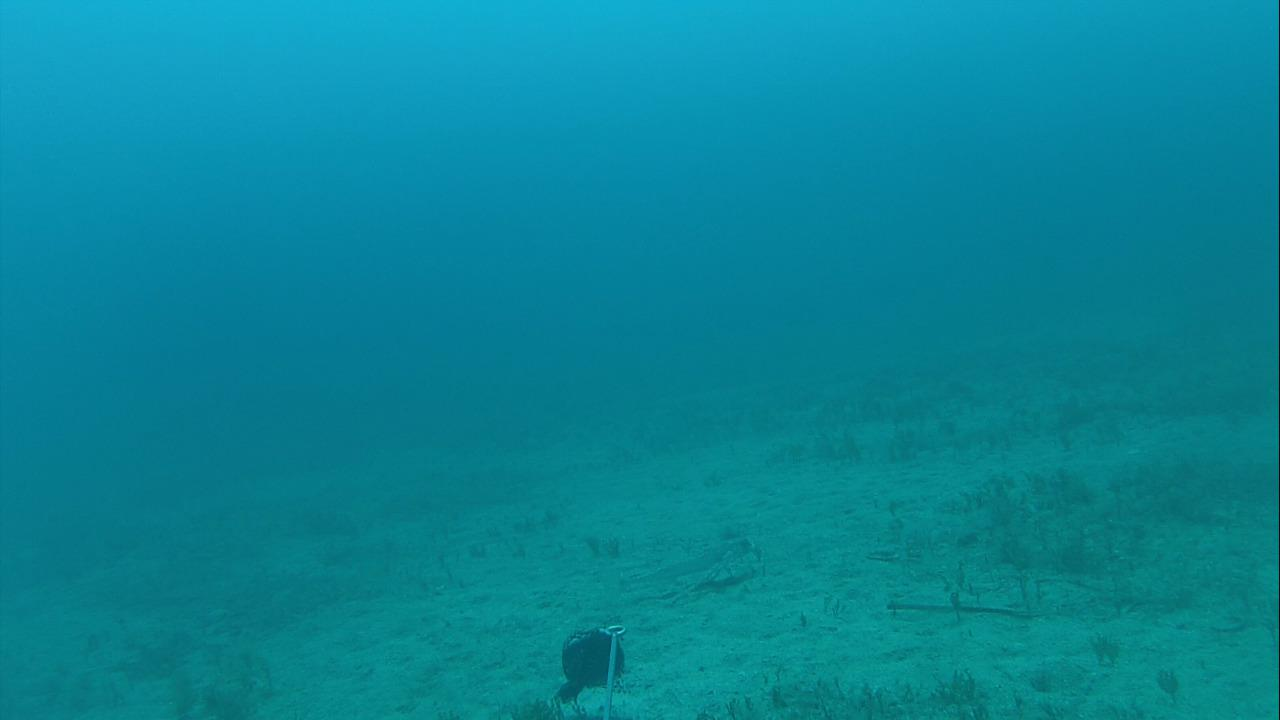dactylopterus: (614, 534, 765, 595)
